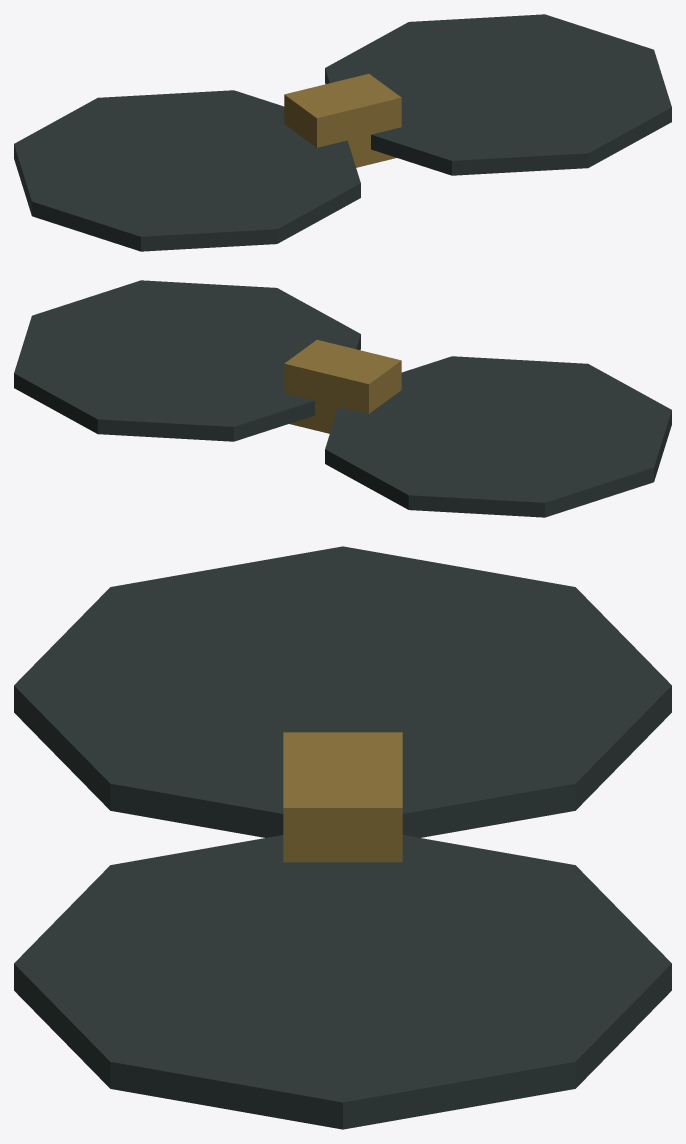
The model's file is glass_bead.obj.
3 views of the same model, one above another, from view 1: azimuth 30°, elevation 25°; view 2: azimuth 150°, elevation 25°; view 3: azimuth 270°, elevation 25° (orthographic). The views are drawn at different scales.
Visible parts, largest first — view 1: item_114; view 2: item_114; view 3: item_114.
Part boxes in pixels (<box>): item_114: <box>14,14,671,251</box>; item_114: <box>14,280,671,517</box>; item_114: <box>14,546,671,1129</box>.
Size of the model in its own units: 0.88 by 0.08 by 0.44.
